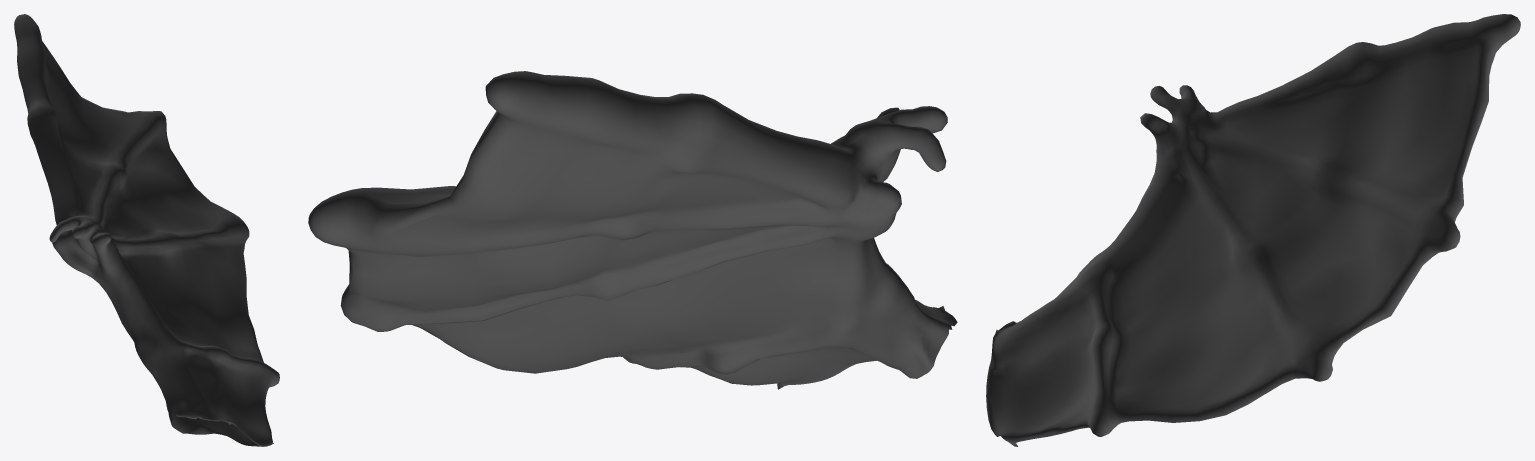
The model's file is AlaDerecha.obj.
3 views of the same model, side by side, from view 1: azimuth 30°, elevation 25°; view 2: azimuth 150°, elevation 25°; view 3: azimuth 270°, elevation 25° (orthographic). The views are drawn at different scales.
Visible parts, largest first — view 1: AlaDerecha; view 2: AlaDerecha; view 3: AlaDerecha.
Boxes of the visible parts, x1,y1,x2,y2 form: AlaDerecha: (14,14,279,446); AlaDerecha: (308,71,957,389); AlaDerecha: (986,14,1520,446).
Size of the model in its own units: 6.31 by 7.41 by 8.99.
1 material, 1 textured.
